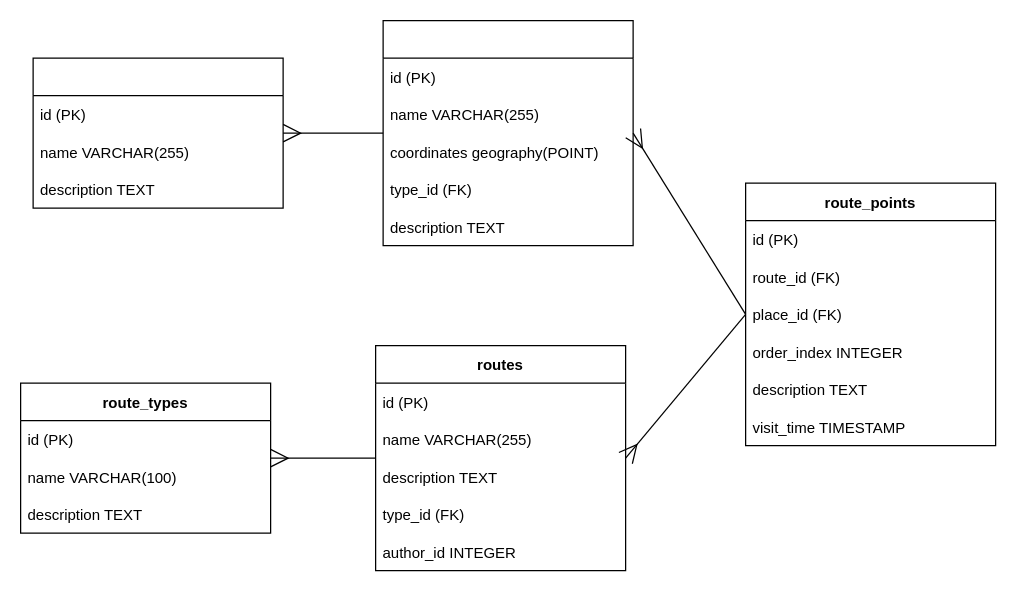
This 1016x591 diagram has some shape labels left out. The shapes that lost their labels are listed below. From the top down, each one's box as (x1, y1, x2, y2) in pixels, then its label:
(32, 57, 283, 208): place_types
(382, 19, 633, 246): places
